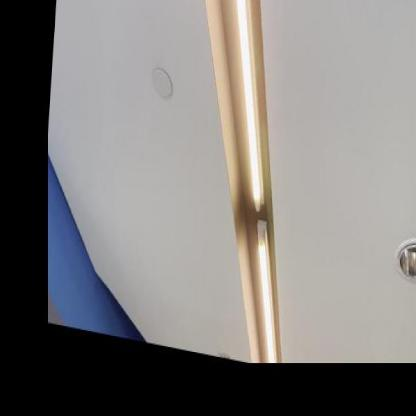light_on: (205, 0, 286, 223), (242, 219, 291, 370)
